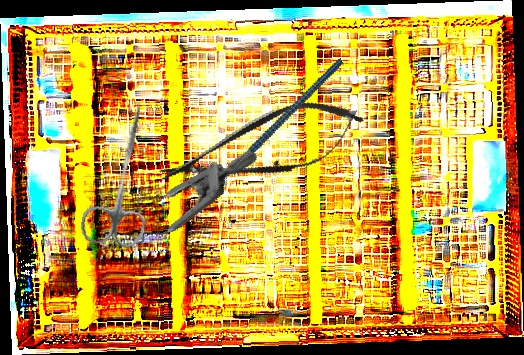Chopper: (195, 57, 371, 192)
Iris Scissors: (78, 95, 168, 252)
Micro Scissor: (150, 86, 372, 208)
Speculum: (86, 98, 260, 289)
